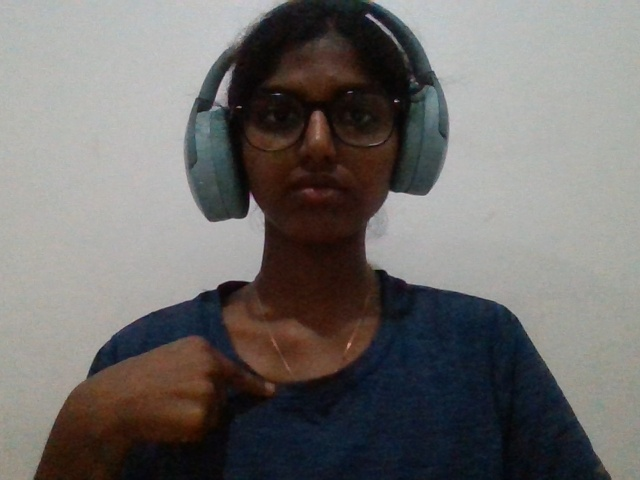Me: (26, 316, 330, 472)
